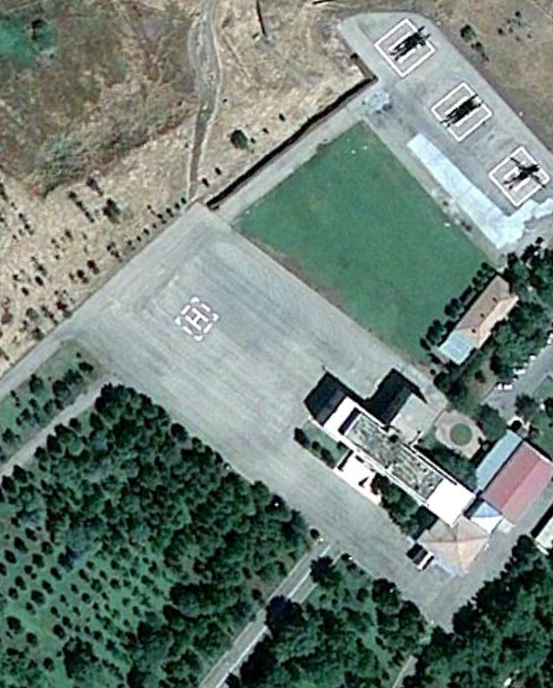heliport: (181, 305, 209, 332)
